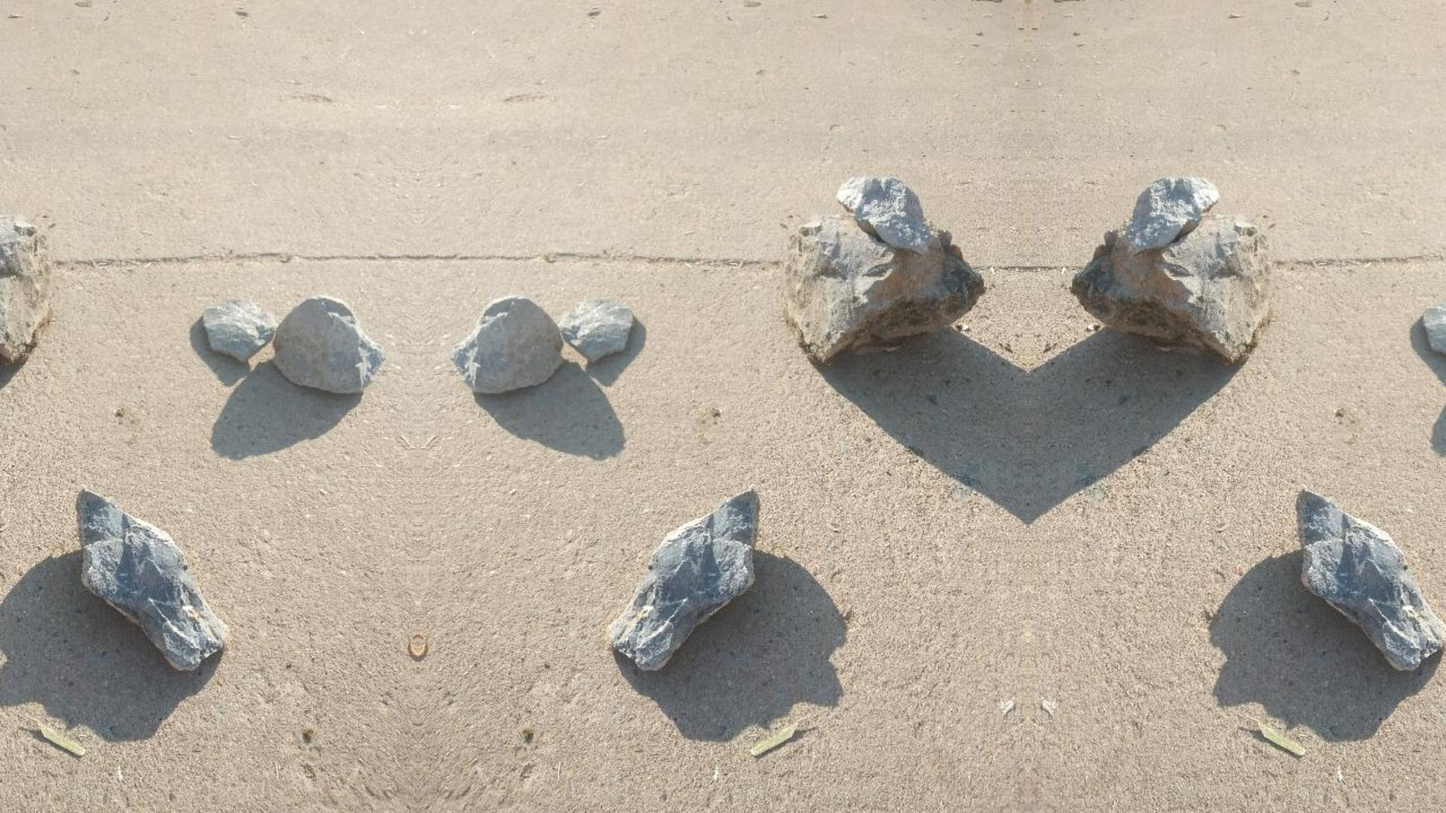rock: (784, 216, 984, 364), (1071, 215, 1271, 362), (608, 491, 758, 670), (77, 490, 226, 670), (1296, 490, 1445, 670), (273, 295, 384, 393), (452, 296, 563, 393), (0, 215, 51, 364), (836, 176, 935, 252), (1123, 175, 1218, 253), (557, 299, 634, 361), (202, 299, 278, 360), (1422, 301, 1445, 355)
